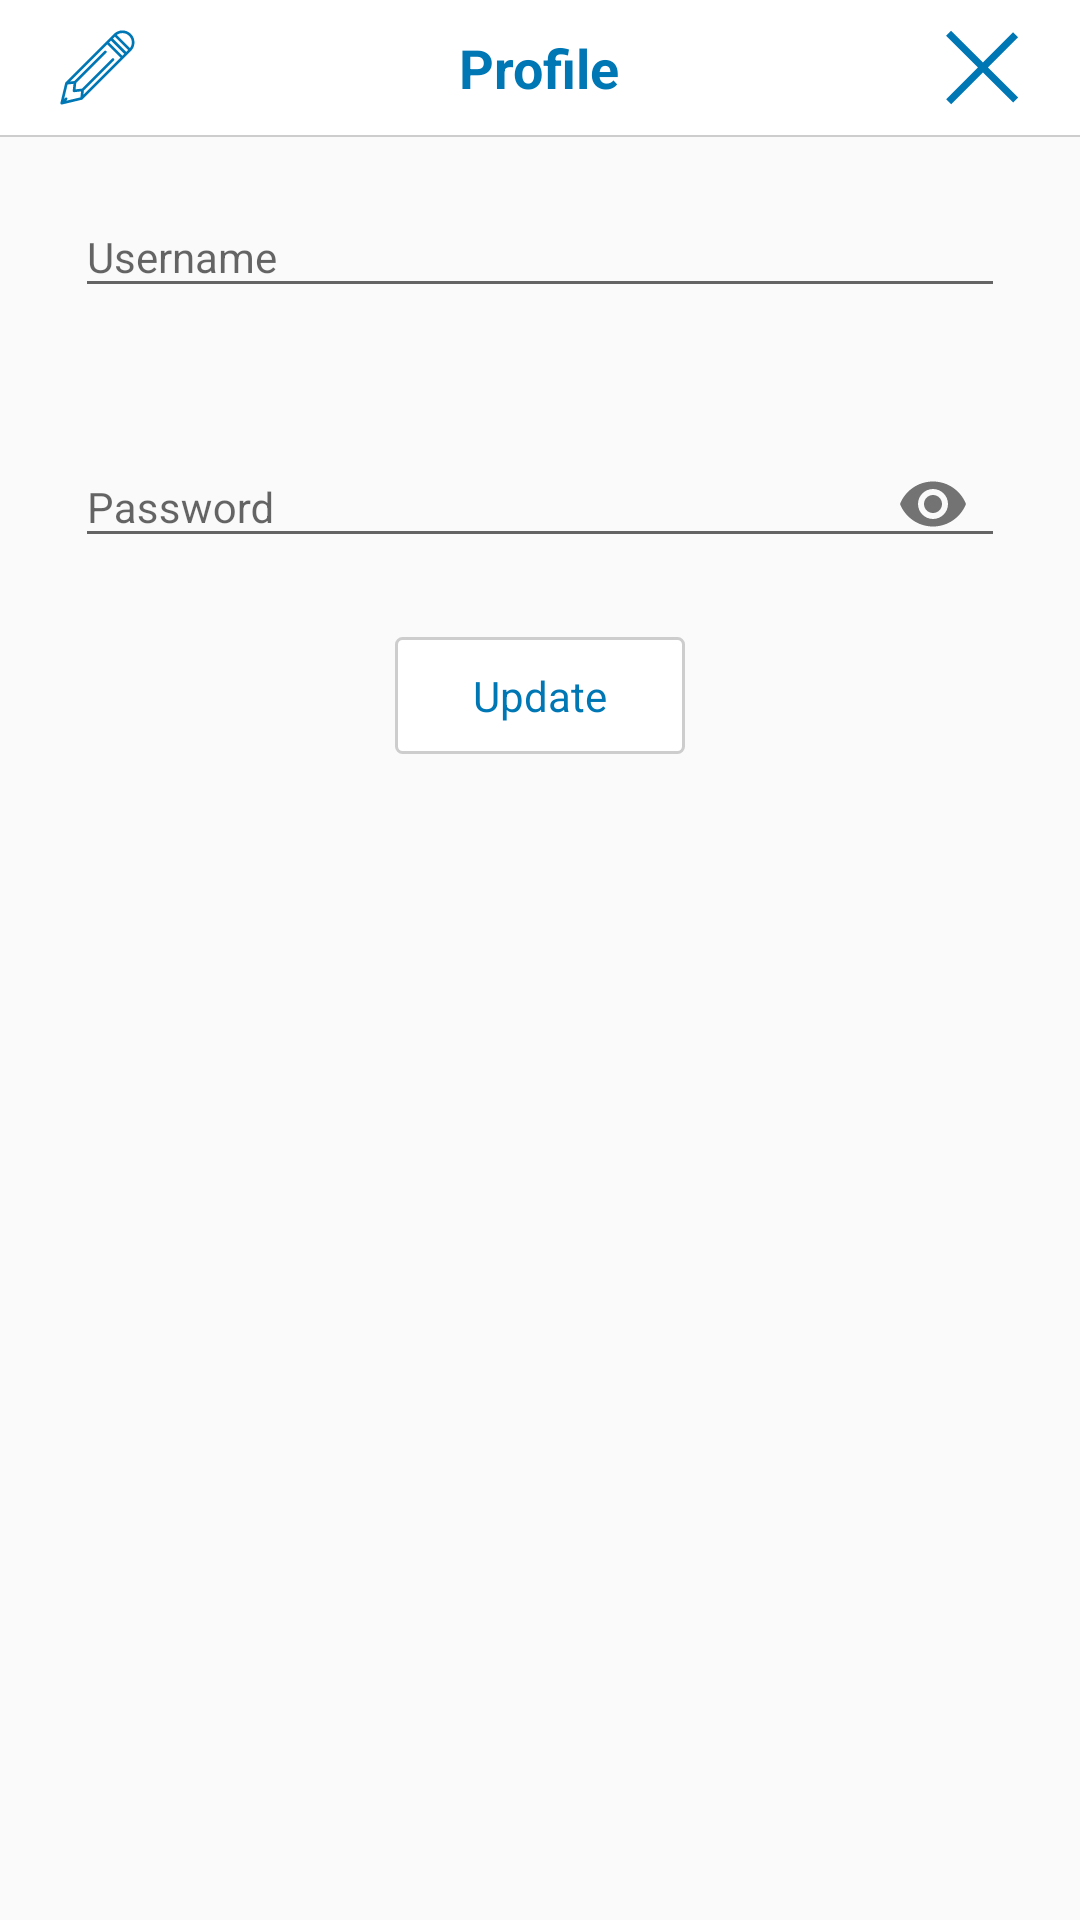

Named icons in this screenshot (1080 × 1920) and their centers, (x=x, y=y):
close: (x=982, y=67)
editpic: (x=97, y=67)
